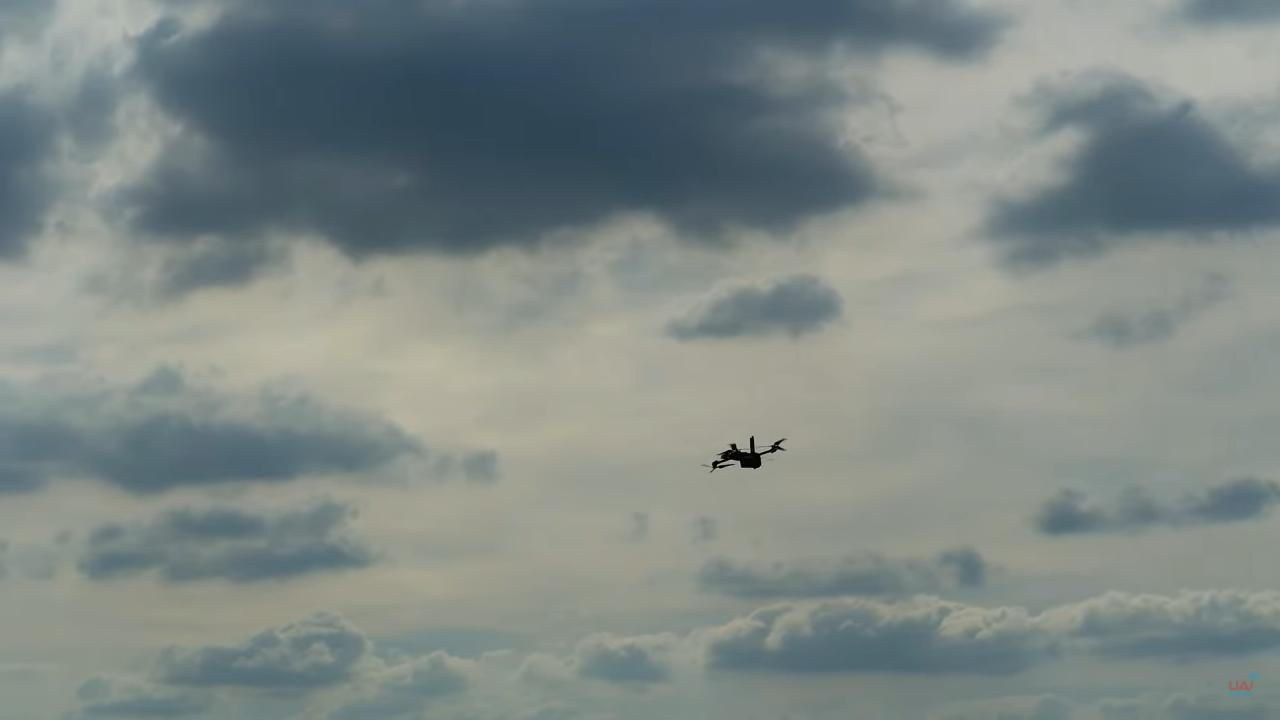Drone: (690, 424, 796, 483)
